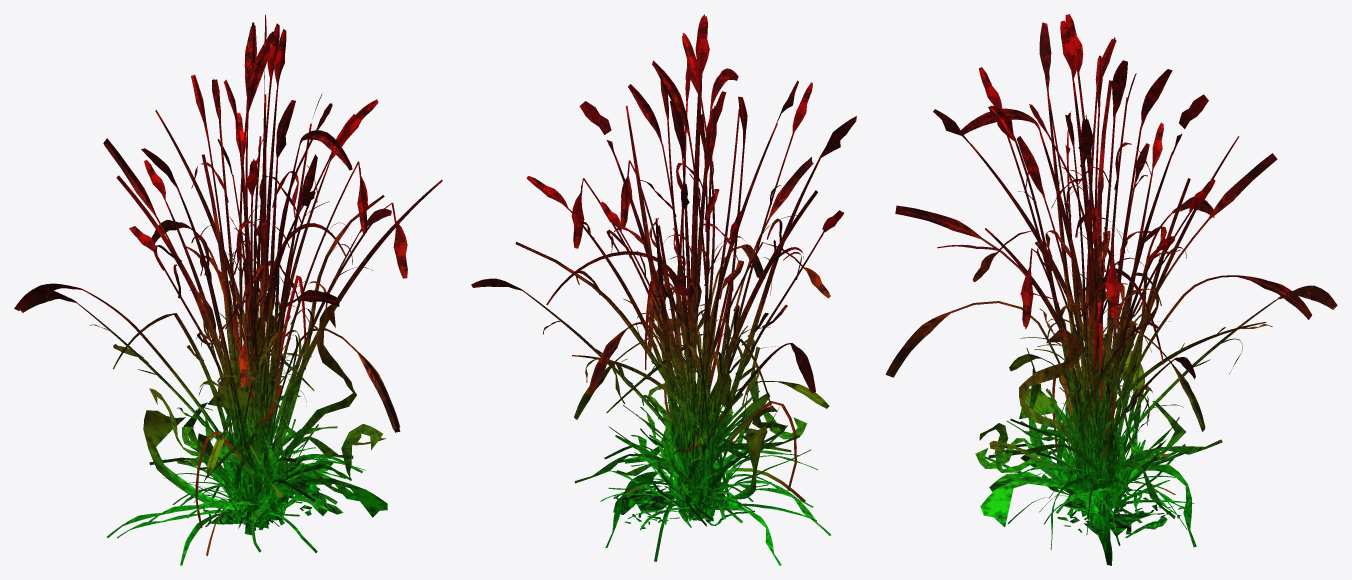
File: Carrizo.glb
3 renders of one model, left to right at view 1: azimuth 30°, elevation 25°; view 2: azimuth 150°, elevation 25°; view 3: azimuth 270°, elevation 25°, orthographic. The views are drawn at different scales.
Parts seen in each view (by area): view 1: _1440_Var1_LOD0, _da86_Var3_LOD0, _0148_Var2_LOD0, _9b00_Var4_LOD0, _bf29_Var5_LOD0, _f8b4_Var6_LOD0; view 2: _1440_Var1_LOD0, _0148_Var2_LOD0, _da86_Var3_LOD0, _9b00_Var4_LOD0, _bf29_Var5_LOD0, _f8b4_Var6_LOD0; view 3: _1440_Var1_LOD0, _da86_Var3_LOD0, _0148_Var2_LOD0, _9b00_Var4_LOD0, _f8b4_Var6_LOD0, _bf29_Var5_LOD0.
Part boxes in pixels (bbox=[...]): _1440_Var1_LOD0: bbox=[20, 14, 442, 565]; _da86_Var3_LOD0: bbox=[129, 22, 407, 535]; _0148_Var2_LOD0: bbox=[14, 99, 378, 552]; _9b00_Var4_LOD0: bbox=[185, 100, 385, 529]; _bf29_Var5_LOD0: bbox=[195, 275, 306, 556]; _f8b4_Var6_LOD0: bbox=[203, 491, 326, 526]; _1440_Var1_LOD0: bbox=[515, 14, 856, 565]; _0148_Var2_LOD0: bbox=[526, 33, 830, 547]; _da86_Var3_LOD0: bbox=[471, 16, 843, 524]; _9b00_Var4_LOD0: bbox=[571, 100, 791, 561]; _bf29_Var5_LOD0: bbox=[622, 279, 805, 501]; _f8b4_Var6_LOD0: bbox=[614, 485, 754, 528]; _1440_Var1_LOD0: bbox=[885, 14, 1337, 545]; _da86_Var3_LOD0: bbox=[975, 20, 1222, 526]; _0148_Var2_LOD0: bbox=[972, 80, 1311, 549]; _9b00_Var4_LOD0: bbox=[988, 114, 1187, 565]; _f8b4_Var6_LOD0: bbox=[1057, 488, 1184, 538]; _bf29_Var5_LOD0: bbox=[1037, 248, 1175, 516].
Size of the model in its own units: 0.9954 by 1.35 by 1.06.
6 materials, 6 textured.
